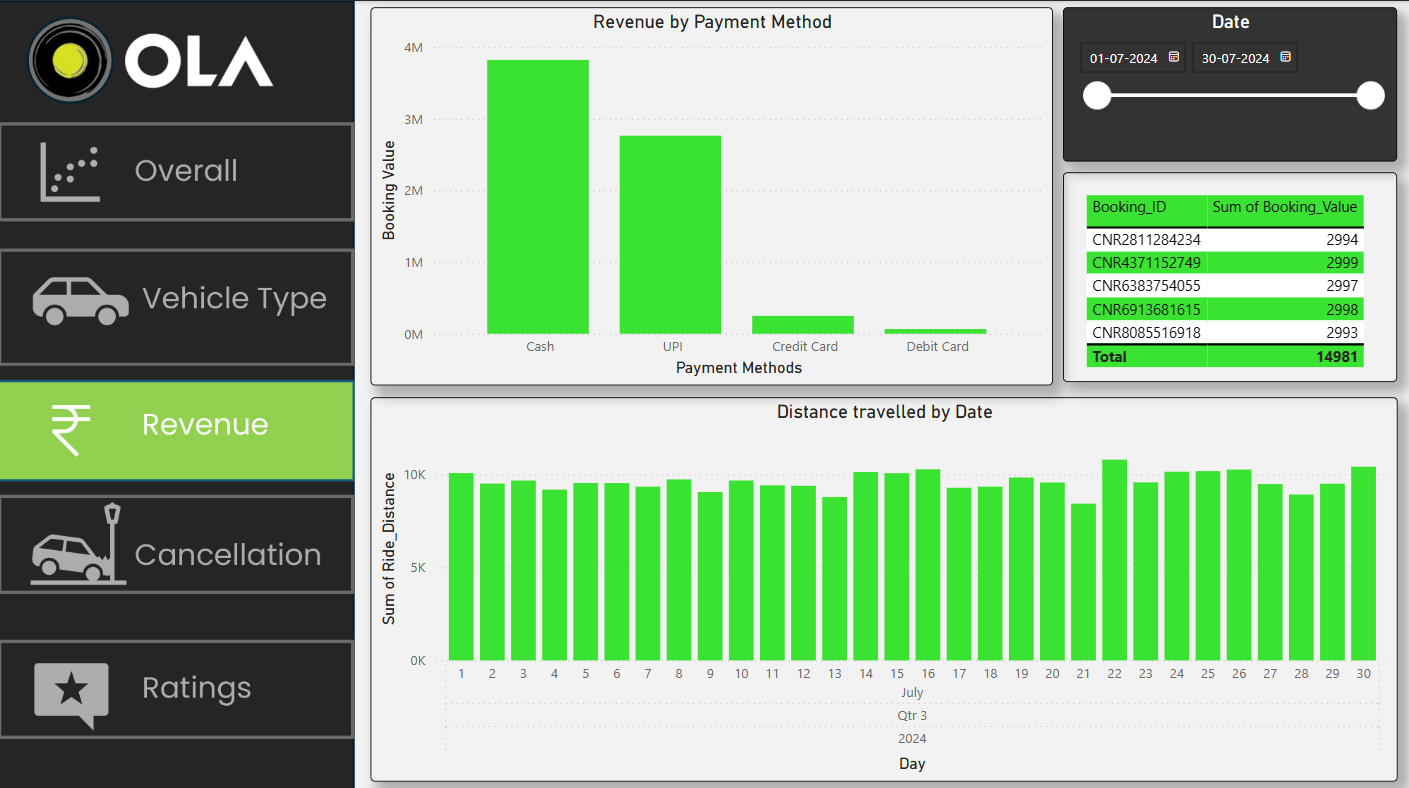

The dashboard page shown, as its layout file describes it:
{"tool":"powerbi","page":{"name":"Revenue","canvas":[1280,720],"ordinal":2},"visuals":[{"type":"actionButton","box":[0,110,323.3,90],"z":0},{"type":"actionButton","box":[0,225,323.3,106.7],"z":1000},{"type":"actionButton","box":[0,448.3,323.3,90],"z":2000},{"type":"actionButton","box":[0,580,323.3,90],"z":3000},{"type":"clusteredColumnChart","title":"Revenue by Payment Method","fields":{"Y":["Sum(July.Booking_Value)"],"Category":["July.Payment_Method"]},"box":[337.6,5.5,618.9,343.1],"z":4000},{"type":"clusteredColumnChart","title":"Distance travelled by Date","fields":{"Y":["Sum(July.Ride_Distance)"],"Category":["July.Date.Variation.Date Hierarchy.Year","July.Date.Variation.Date Hierarchy.Quarter","July.Date.Variation.Date Hierarchy.Month","July.Date.Variation.Date Hierarchy.Day"]},"box":[337.6,359.5,931.7,348.5],"z":5000},{"type":"slicer","title":"Date","fields":{"Values":["July.Date"]},"box":[966,5.5,303.3,140],"z":6000},{"type":"tableEx","title":"Top 5 customers","fields":{"Values":["July.Booking_ID","Sum(July.Booking_Value)"]},"box":[966,155.1,303.3,190.7],"z":7000}]}

Visuals, with their boxes in screenshot pixels (x1, y1, x2, y2), scaled from the page's 1280x720 canvas onto the 1409x788 screenshot:
actionButton: [left=0, top=120, right=356, bottom=219]
actionButton: [left=0, top=246, right=356, bottom=363]
actionButton: [left=0, top=491, right=356, bottom=589]
actionButton: [left=0, top=635, right=356, bottom=733]
"Revenue by Payment Method" clusteredColumnChart: [left=372, top=6, right=1053, bottom=382]
"Distance travelled by Date" clusteredColumnChart: [left=372, top=393, right=1397, bottom=775]
"Date" slicer: [left=1063, top=6, right=1397, bottom=159]
"Top 5 customers" tableEx: [left=1063, top=170, right=1397, bottom=378]
